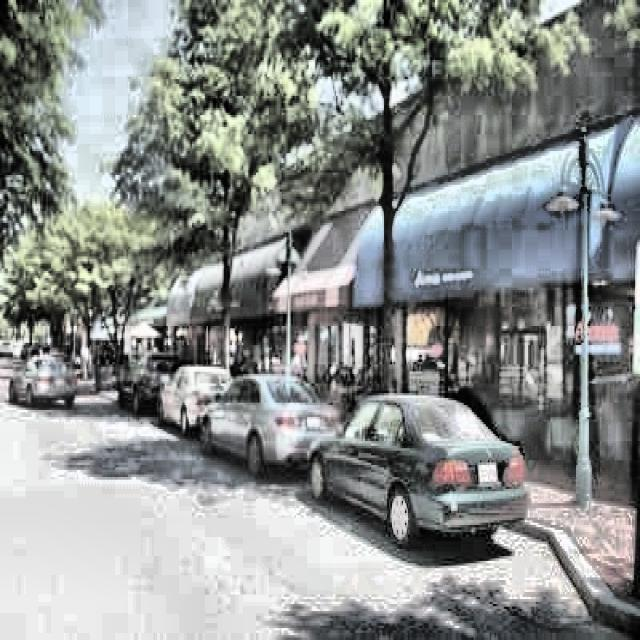license_plate: (478, 462, 497, 488), (306, 414, 322, 432)
